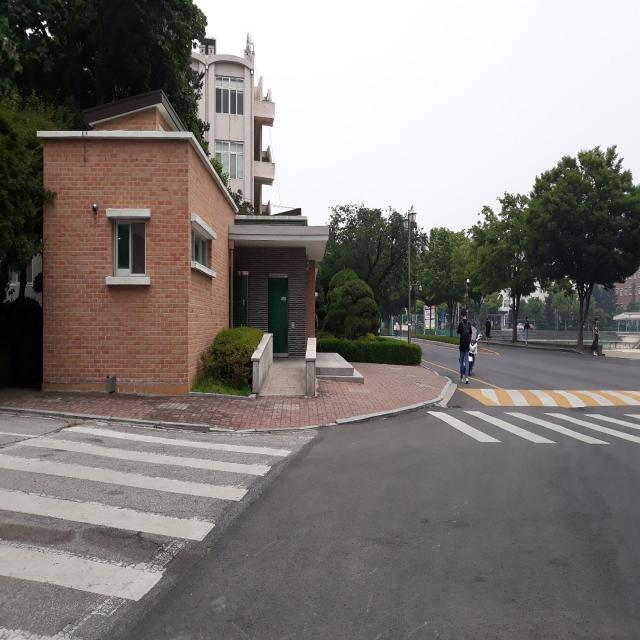횡단보도: (0, 416, 317, 640), (427, 398, 640, 448)
